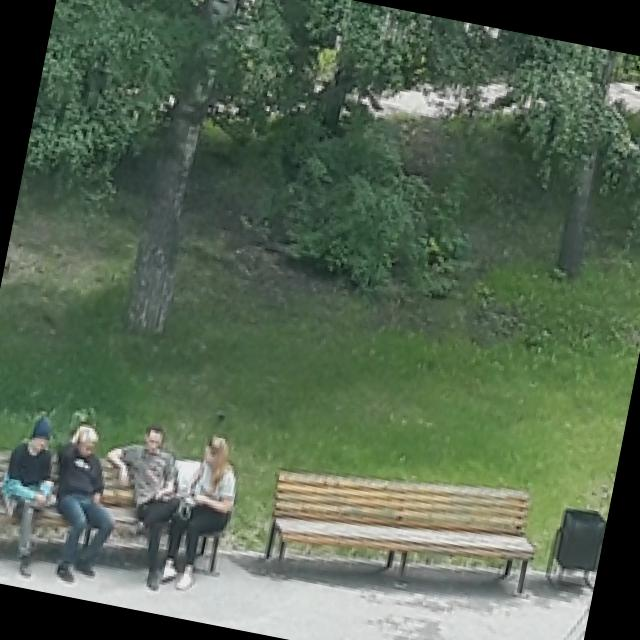person: (90, 421, 196, 590), (149, 425, 246, 597), (36, 421, 132, 588), (0, 406, 74, 579)
